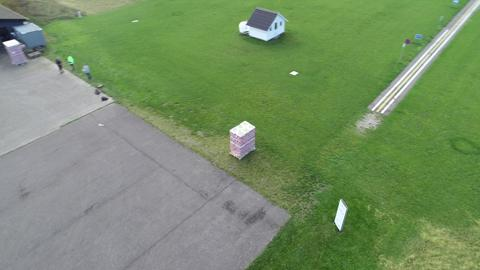RockwoolPallet: (2, 38, 28, 67)
